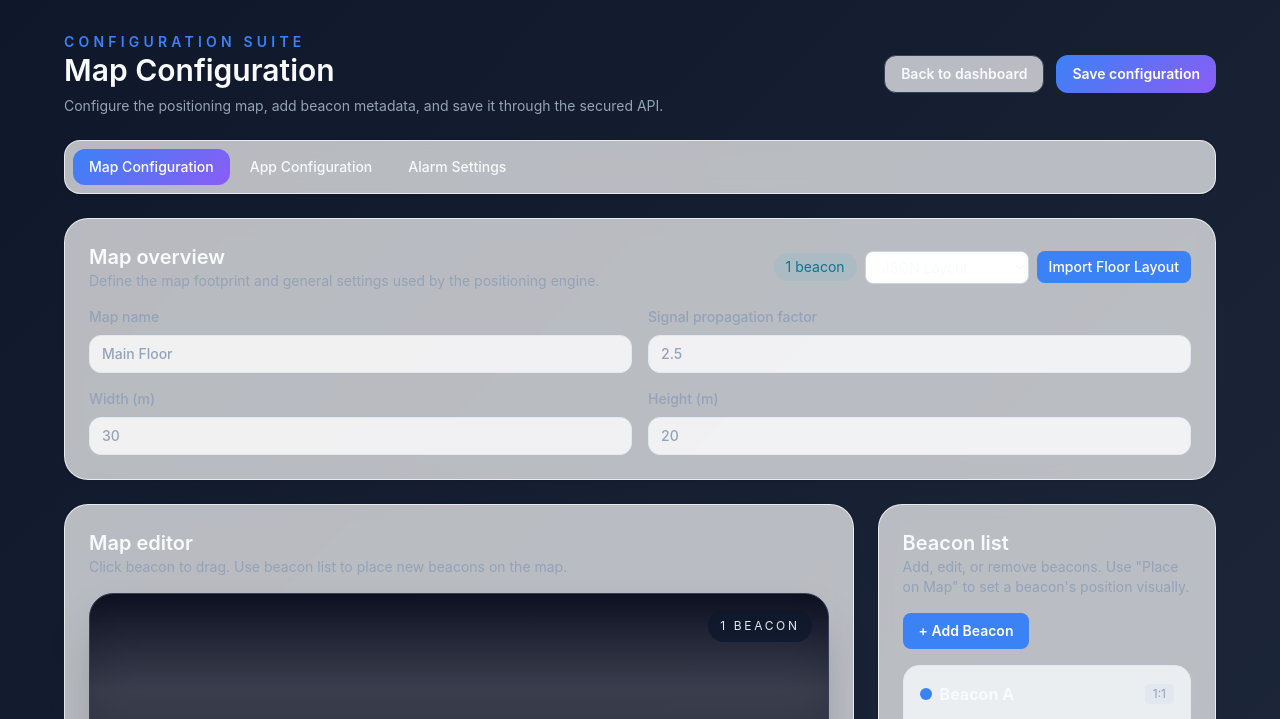
Test: ConfigurationPage - Tab Navigation › shows different header title based on active tab
Check: the heading "Map Configuration" is shown, box top-left (64, 52), bottom-right (335, 88)
Check: the text "Configure the positioning map, add beacon metadata, and save it through the secured API." is shown, box top-left (64, 97), bottom-right (663, 114)
Note: Switch to App Configuration
What coordinates should you click on to do the following:
click the tab "App Configuration"
I would click on:
 (311, 167)
Its box is top-left (234, 149), bottom-right (388, 185).
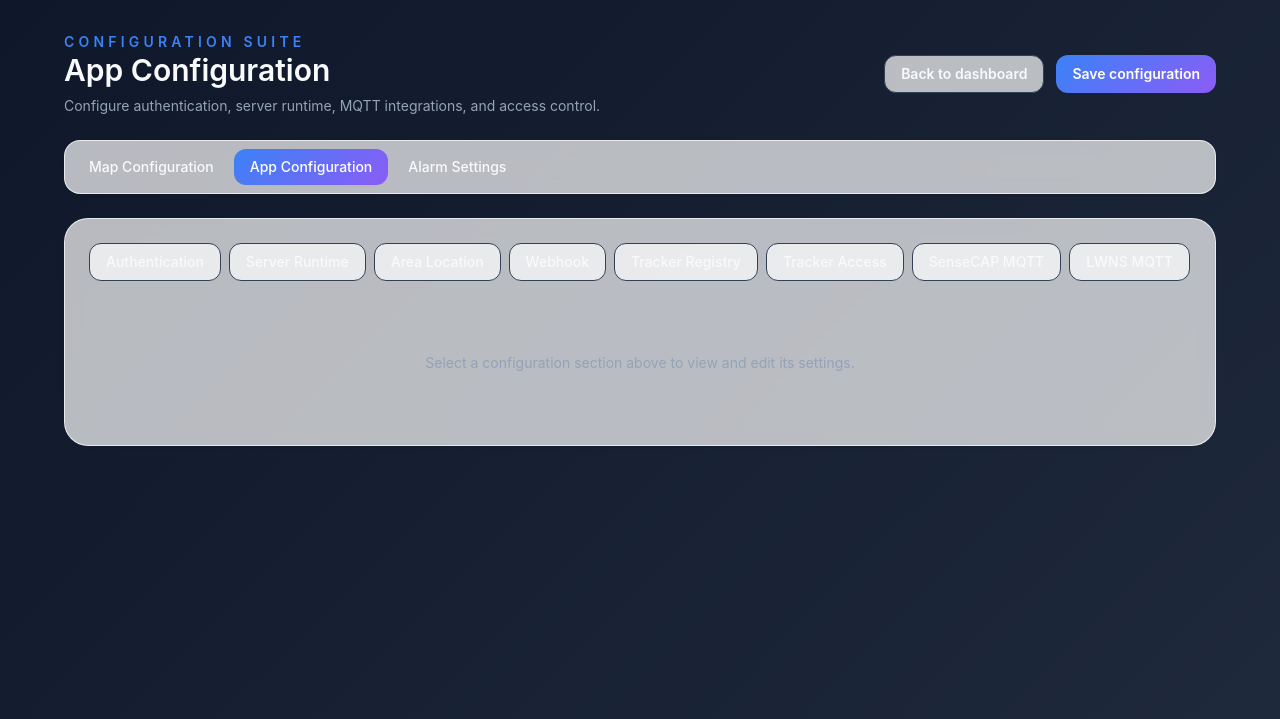
Check: the heading reads "App Configuration", box top-left (64, 52), bottom-right (330, 88)
Check: the text "Configure authentication, server runtime, MQTT integrations, and access control." is shown, box top-left (64, 96), bottom-right (600, 116)
Note: Switch to Alarm Settings
What coordinates should you click on to do the following:
click the tab "Alarm Settings"
I would click on:
 (457, 167)
Its box is top-left (392, 149), bottom-right (522, 185).
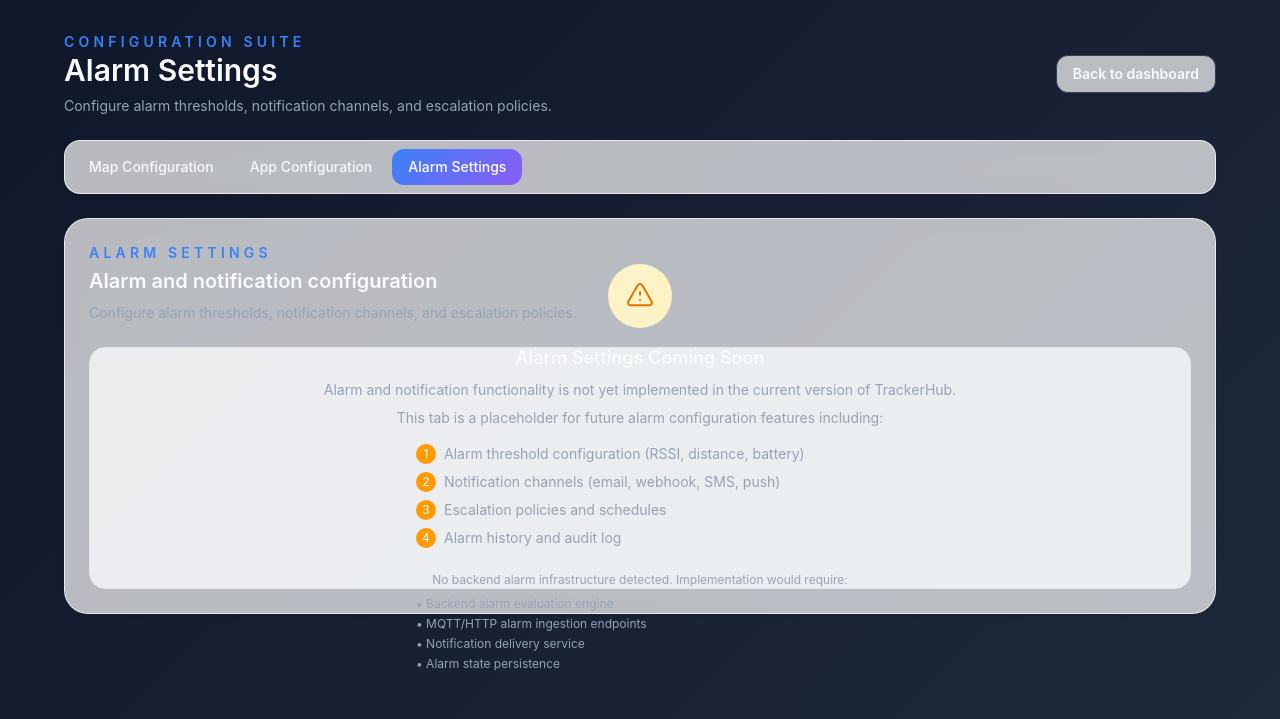
Check: the heading "Alarm Settings" is shown, box top-left (64, 52), bottom-right (277, 88)
Check: the text "Configure alarm thresholds, notification channels, and escalation policies." is shown, box top-left (64, 96), bottom-right (552, 116)
